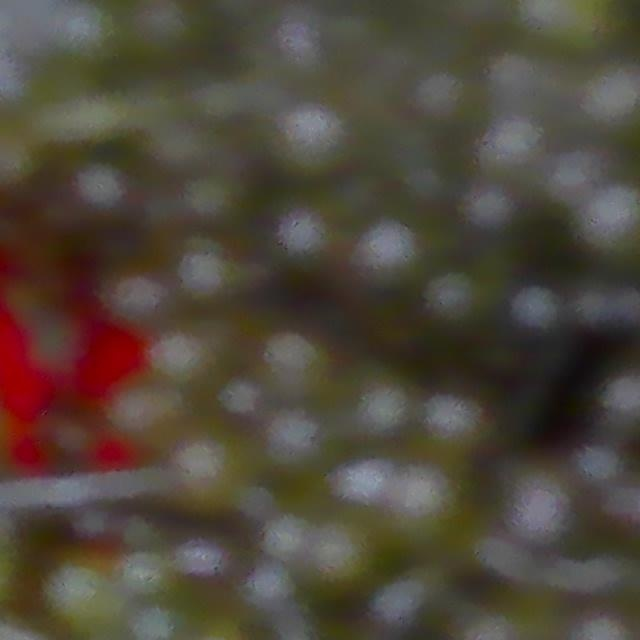SeaGrape: (504, 471, 594, 564), (44, 556, 121, 633), (577, 183, 640, 262), (270, 209, 336, 278), (352, 220, 419, 287), (309, 520, 373, 586), (26, 313, 90, 376), (105, 270, 166, 327), (67, 165, 128, 222), (0, 272, 57, 331)
